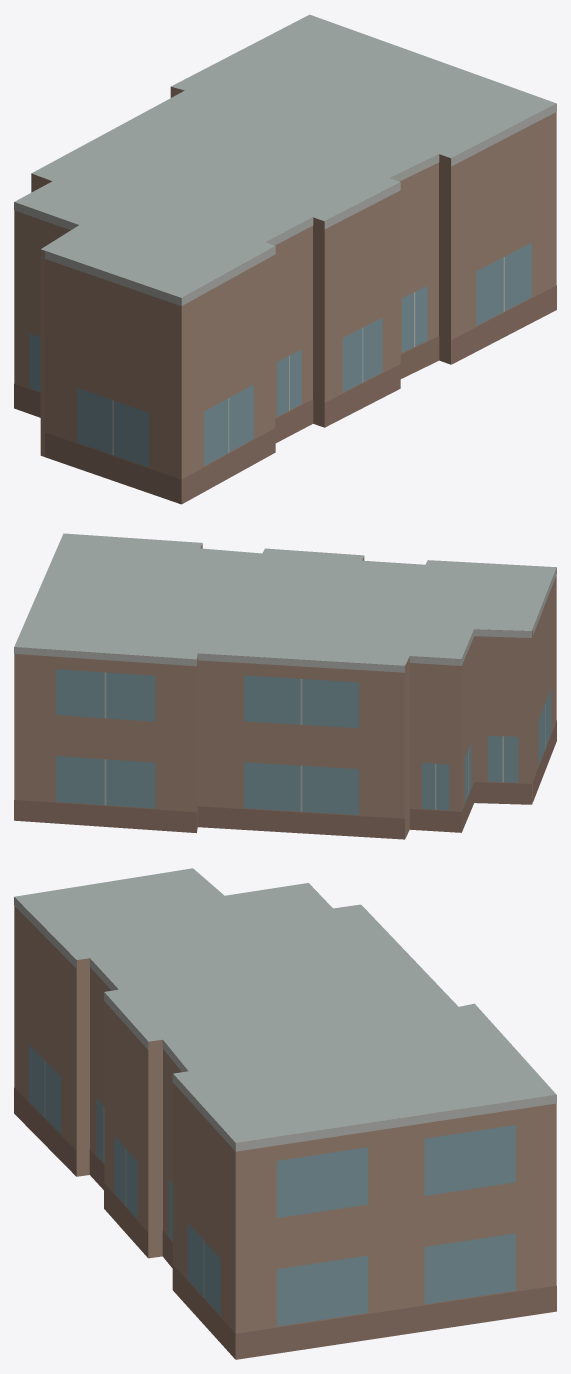
File: survey-upis-32702051.glb
3 views of the same model, one above another, from view 1: azimuth 30°, elevation 25°; view 2: azimuth 150°, elevation 25°; view 3: azimuth 270°, elevation 25° (orthographic). The views are drawn at different scales.
Visible parts, largest first — view 1: survey-upis-32702051.tmp; view 2: survey-upis-32702051.tmp; view 3: survey-upis-32702051.tmp.
Boxes of the visible parts, bbox=[...] form: survey-upis-32702051.tmp: bbox=[14, 14, 556, 504]; survey-upis-32702051.tmp: bbox=[14, 533, 556, 839]; survey-upis-32702051.tmp: bbox=[14, 868, 556, 1359].
Bounding box in the file's own units: 16.6 × 6.1 × 13.85.
